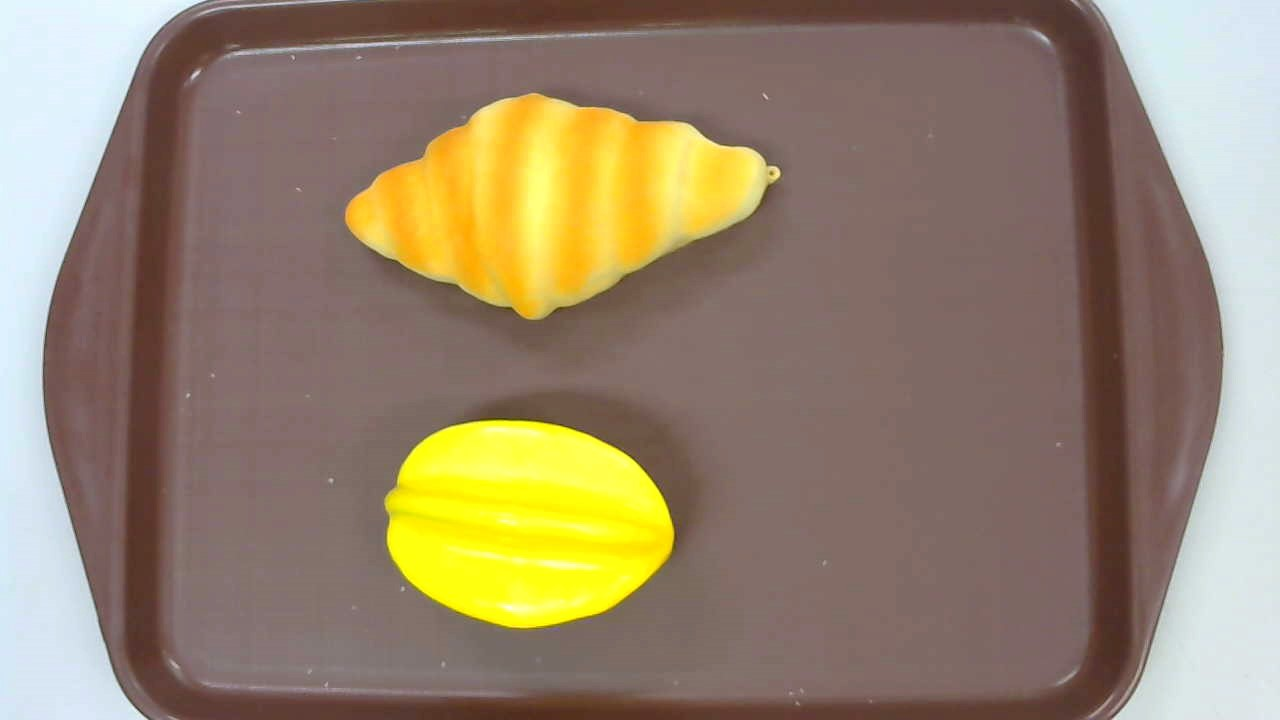croissant: (343, 91, 779, 322)
star fruit: (382, 418, 675, 631)
